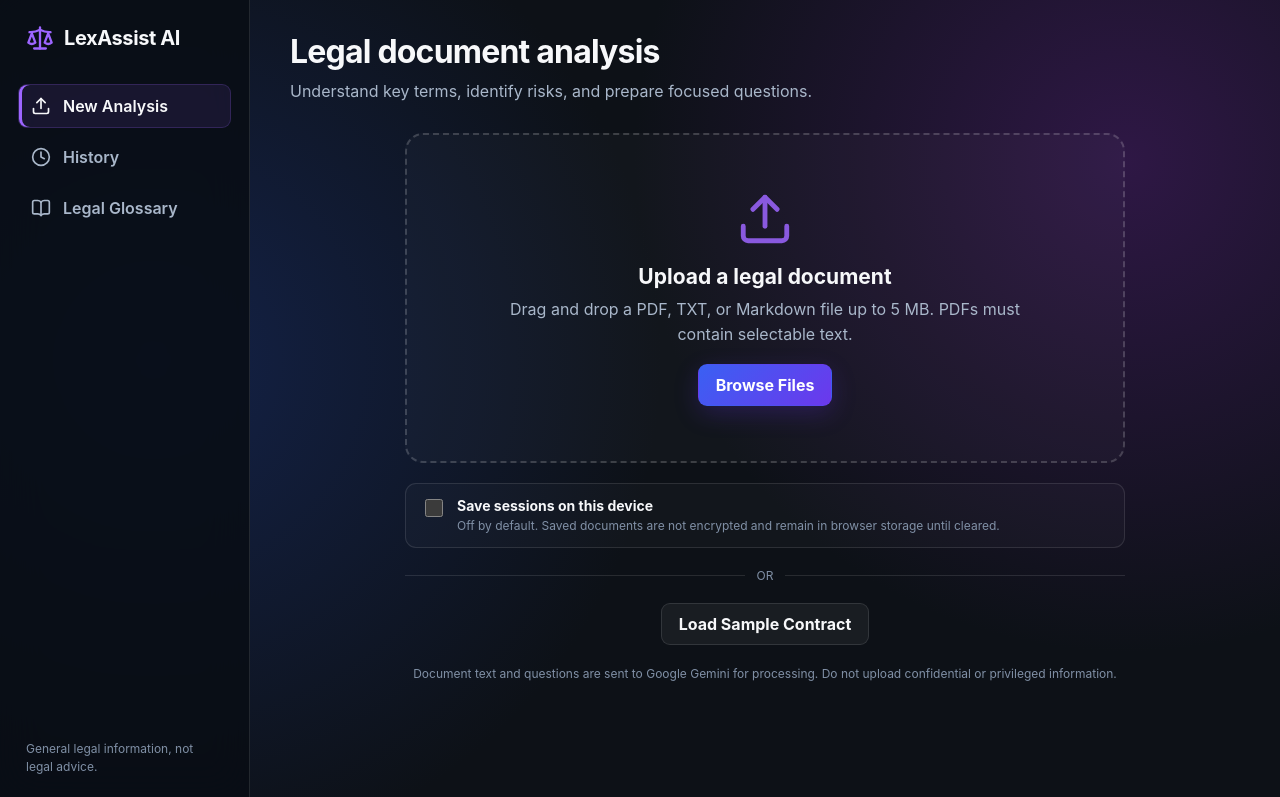
Scenario: App workflows › honors opt-out while an analysis request is still running
The image size is (1280, 797).
Click the button "Load Sample Contract": [765, 624] box [661,603,869,645]
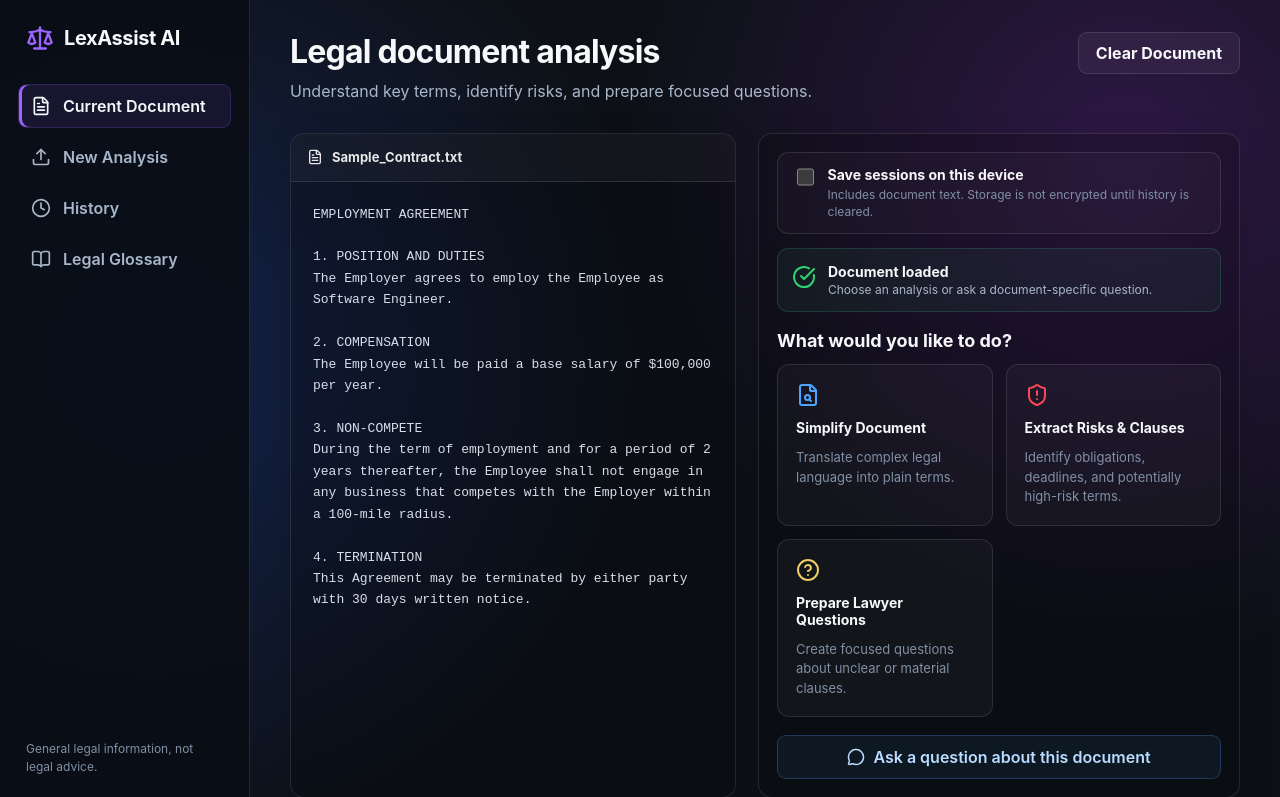
Click the checkbox labelled "Save sessions on this device": [805, 177] box [797,168,814,186]
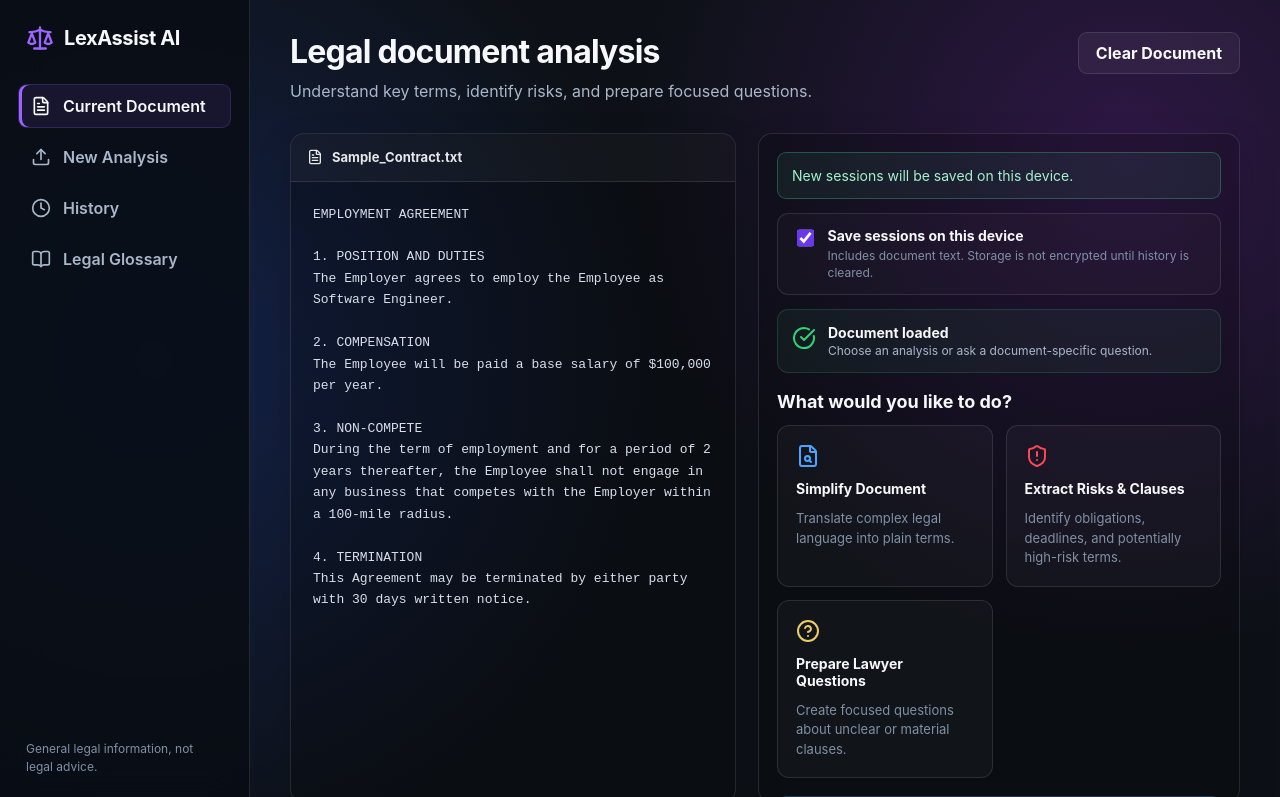
Click the button "Extract Risks": [1113, 506] box [1006,425,1221,587]
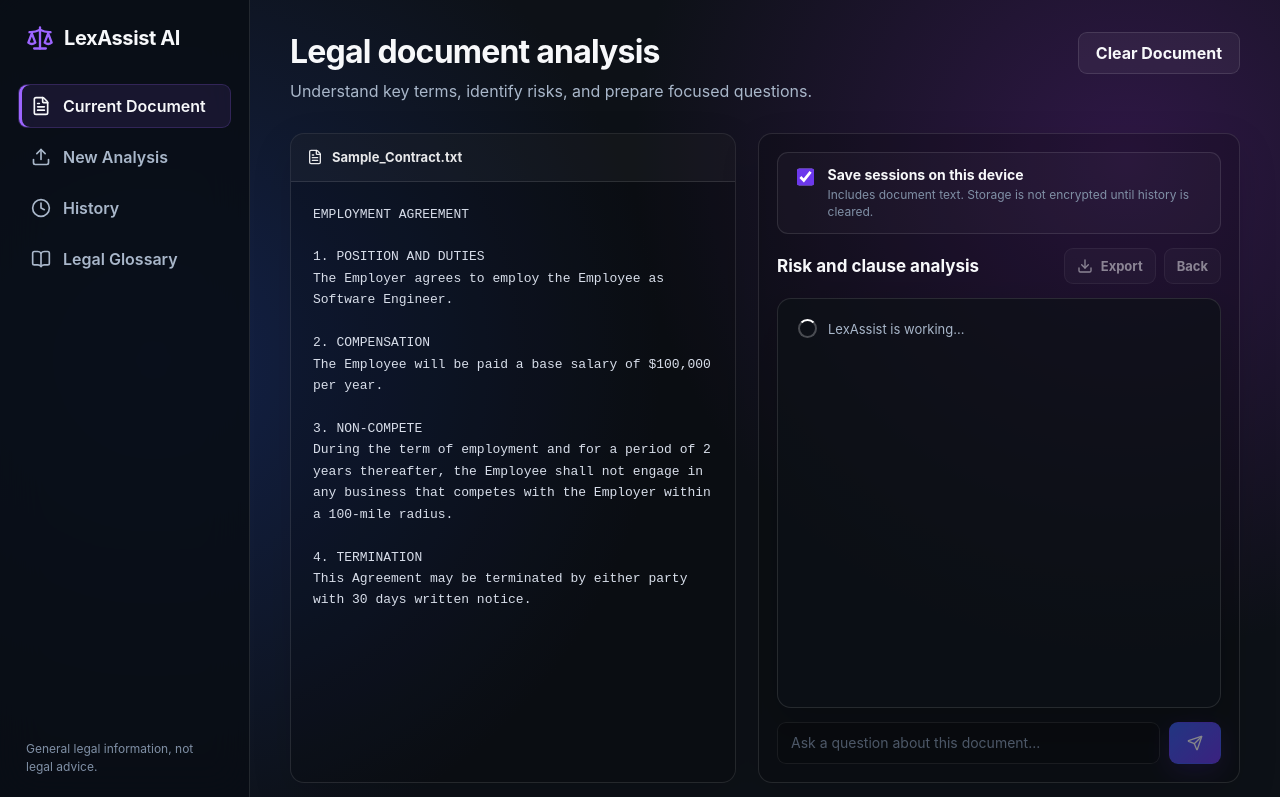
Click the checkbox labelled "Save sessions on this device": [805, 177] box [797,168,814,186]
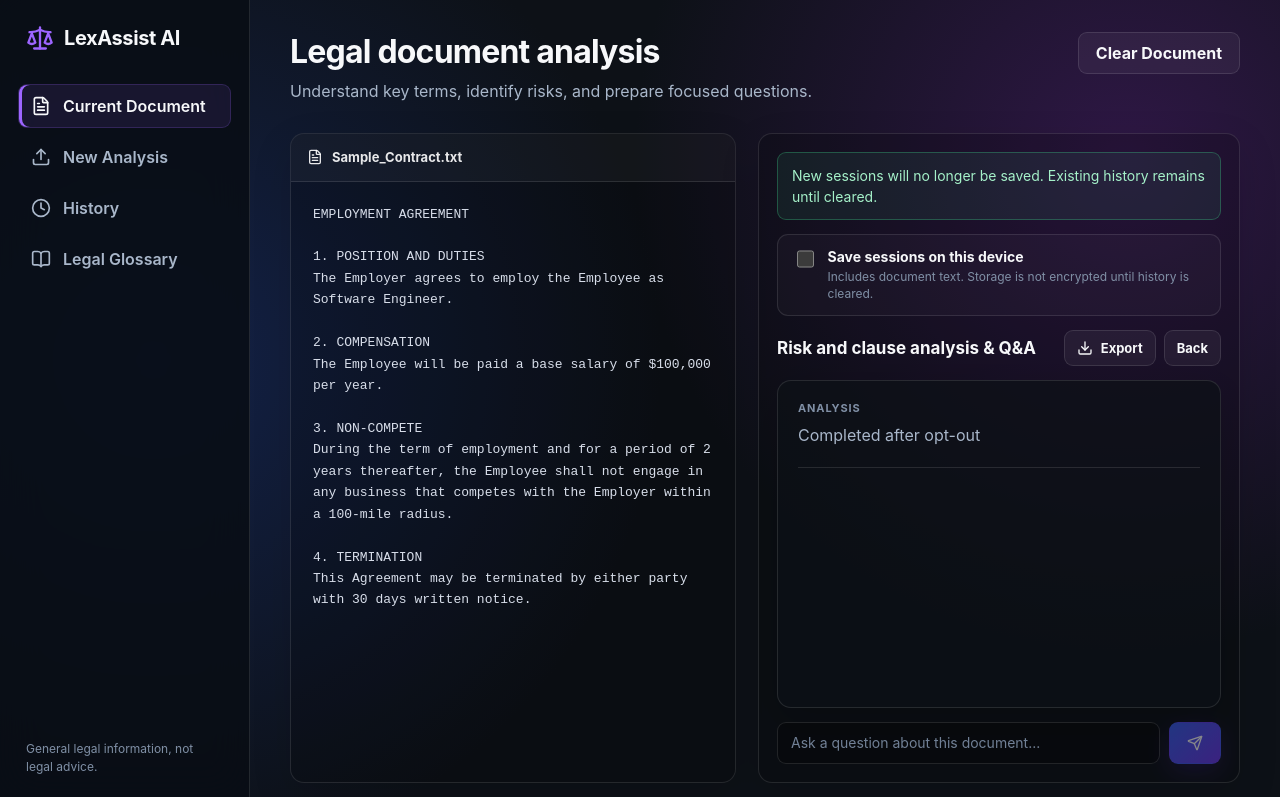
Result: the text "Completed after opt-out" is shown at [798,425,980,445]
